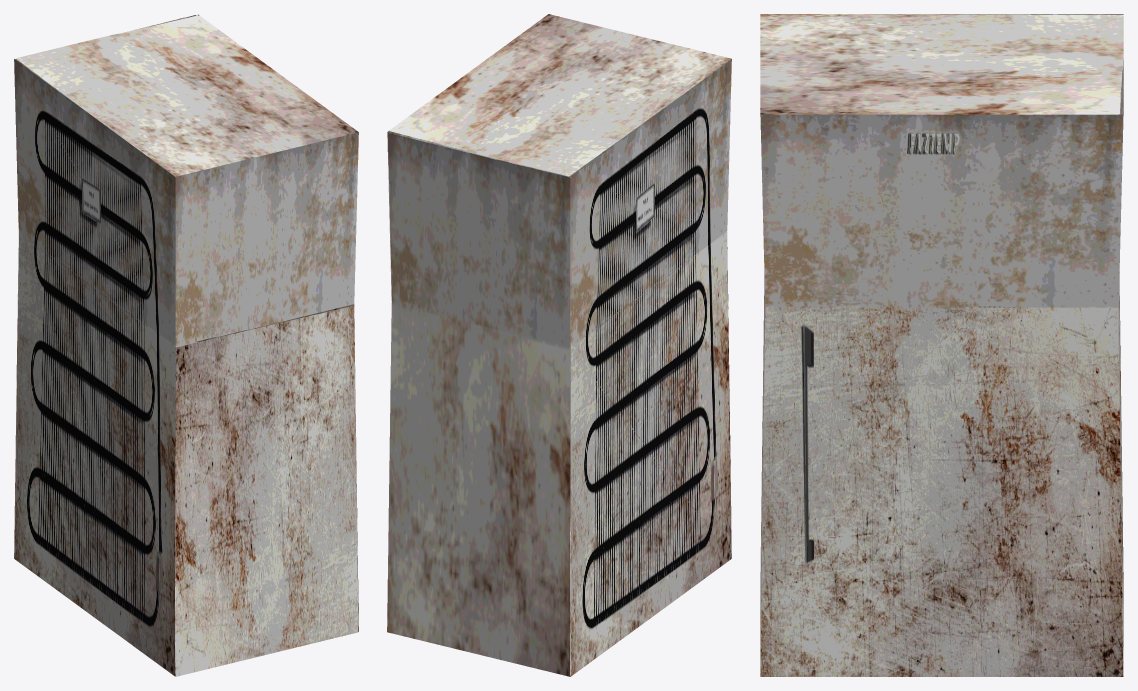
File: Geladeira.fbx
3 views of the same model, side by side, from view 1: azimuth 30°, elevation 25°; view 2: azimuth 150°, elevation 25°; view 3: azimuth 270°, elevation 25° (orthographic). The views are drawn at different scales.
Parts seen in each view (by area): view 1: Geladeira; view 2: Geladeira; view 3: Geladeira.
Boxes of the visible parts, x1,y1,x2,y2 form: Geladeira: (14,14,358,676); Geladeira: (387,14,731,676); Geladeira: (760,14,1123,676).
Bounding box in the file's own units: 125 × 325 × 190.
1 material, 1 textured.
